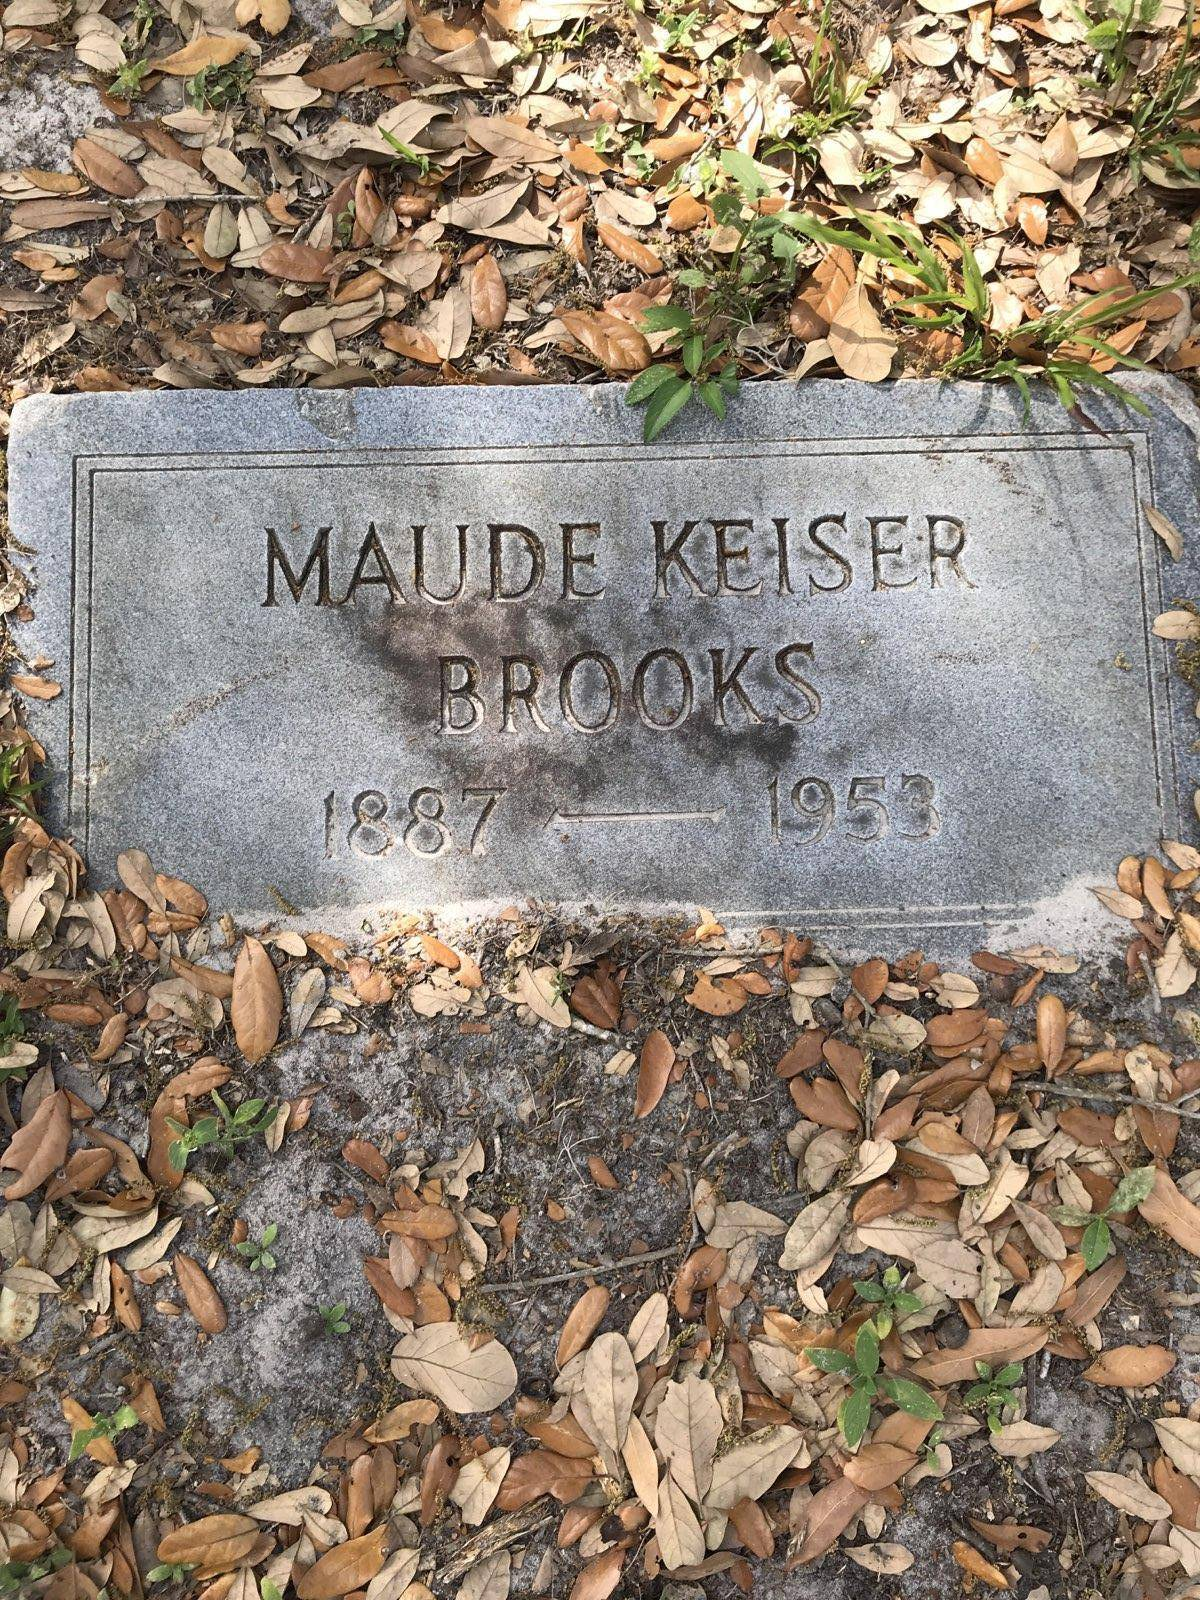flat: (0, 339, 1200, 989)
